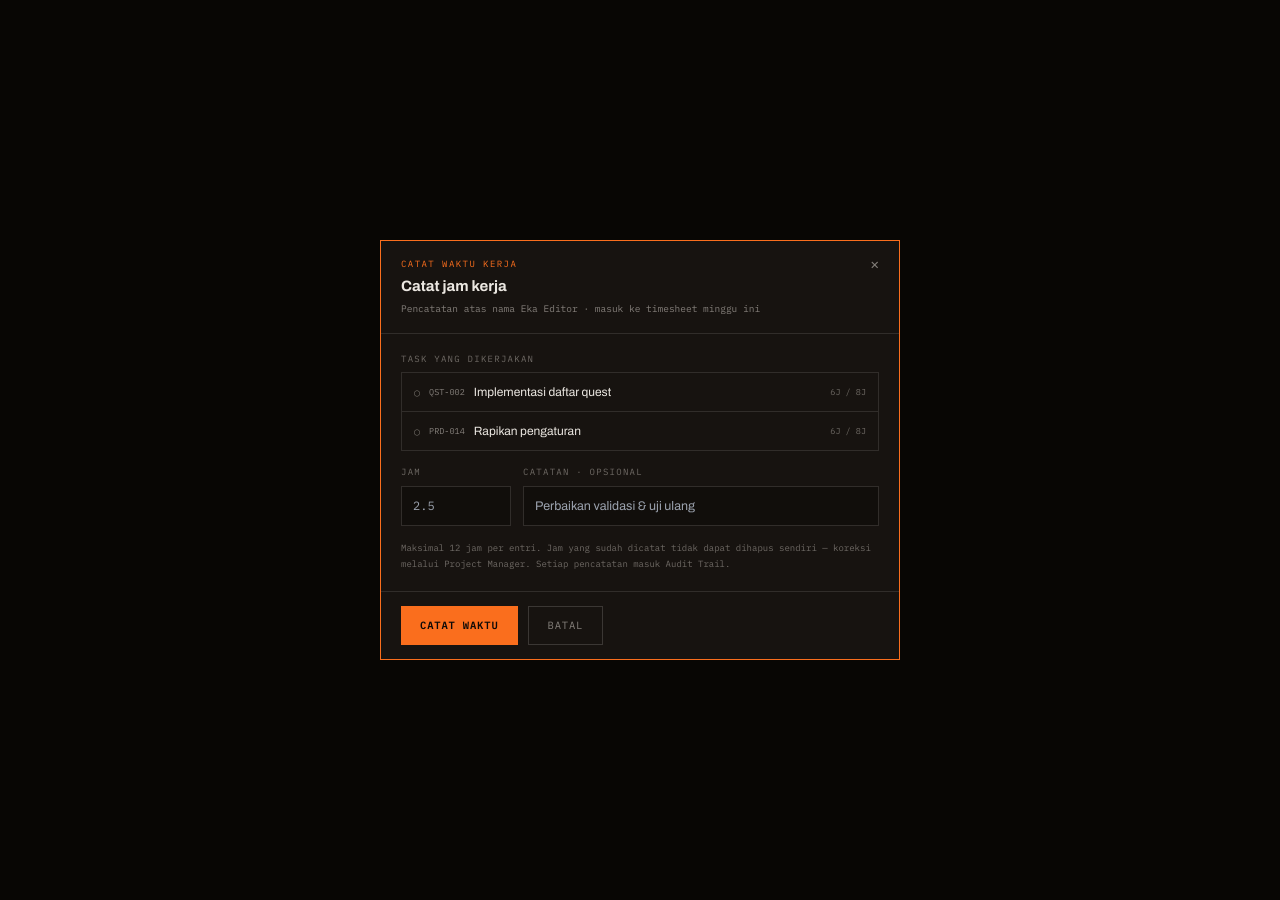
Scenario: LogTimeModal › jam kosong atau 0 ditolak
Click the option "○ QST-002 Implementasi daftar quest 6J / 8J".
click(447, 391)  # box left=414, top=385, right=866, bottom=399
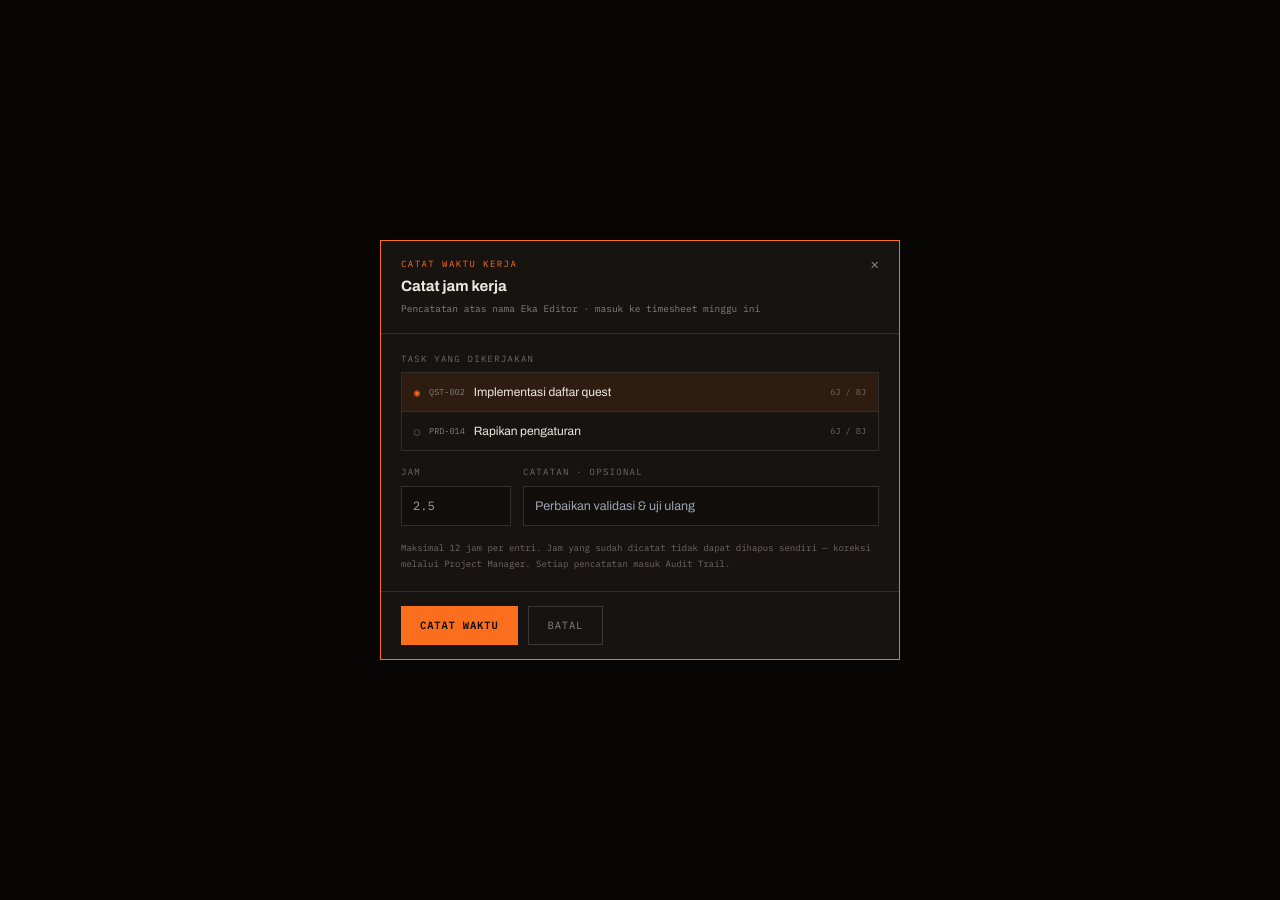
Click the button "CATAT WAKTU".
click(459, 626)  # box left=401, top=606, right=518, bottom=646
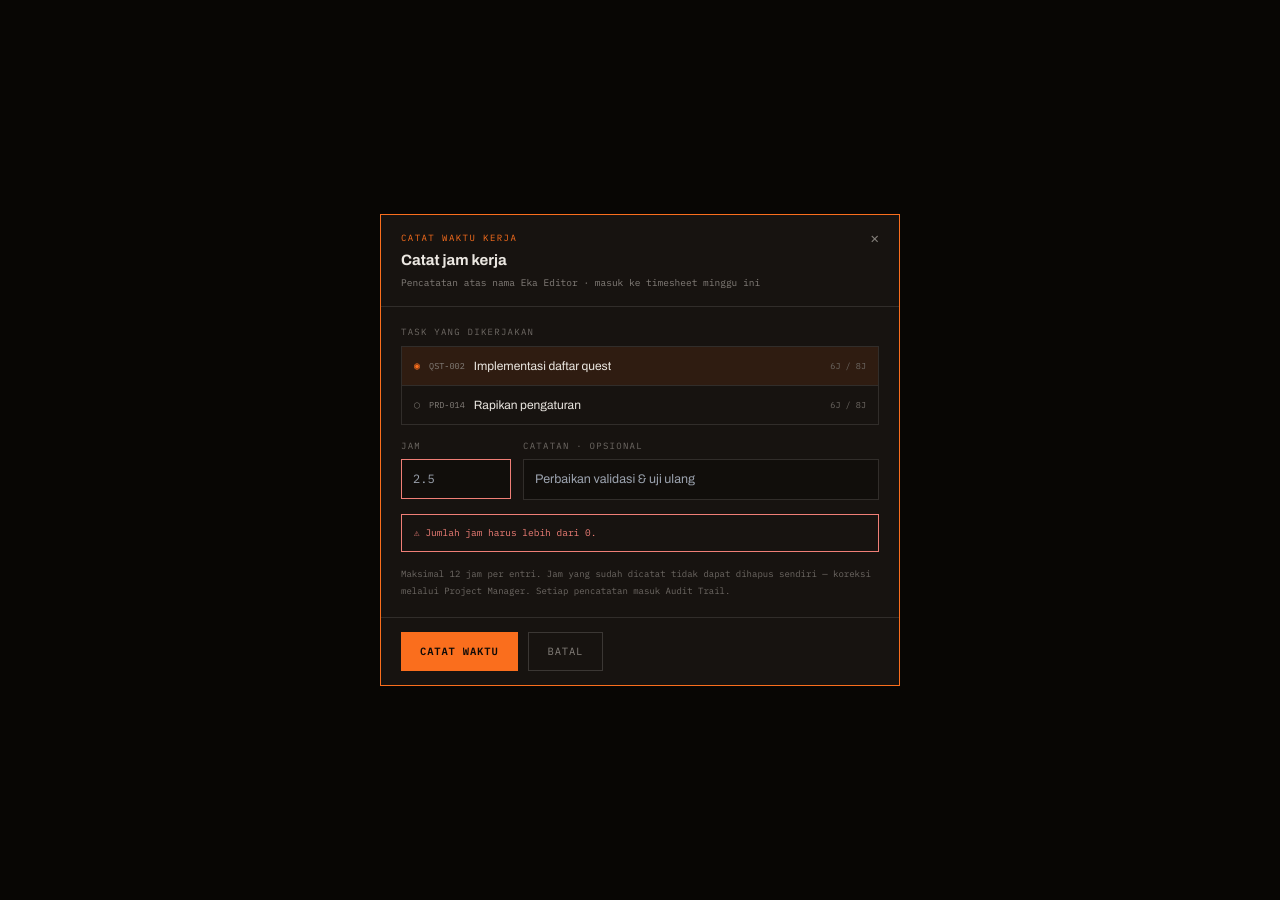
Expected: the text "⚠ Jumlah jam harus lebih dari 0." is shown, left=401, top=514, right=879, bottom=552
Type "0" into the field labelled "JAM".
click(456, 480); type("0")  # box left=401, top=460, right=511, bottom=500
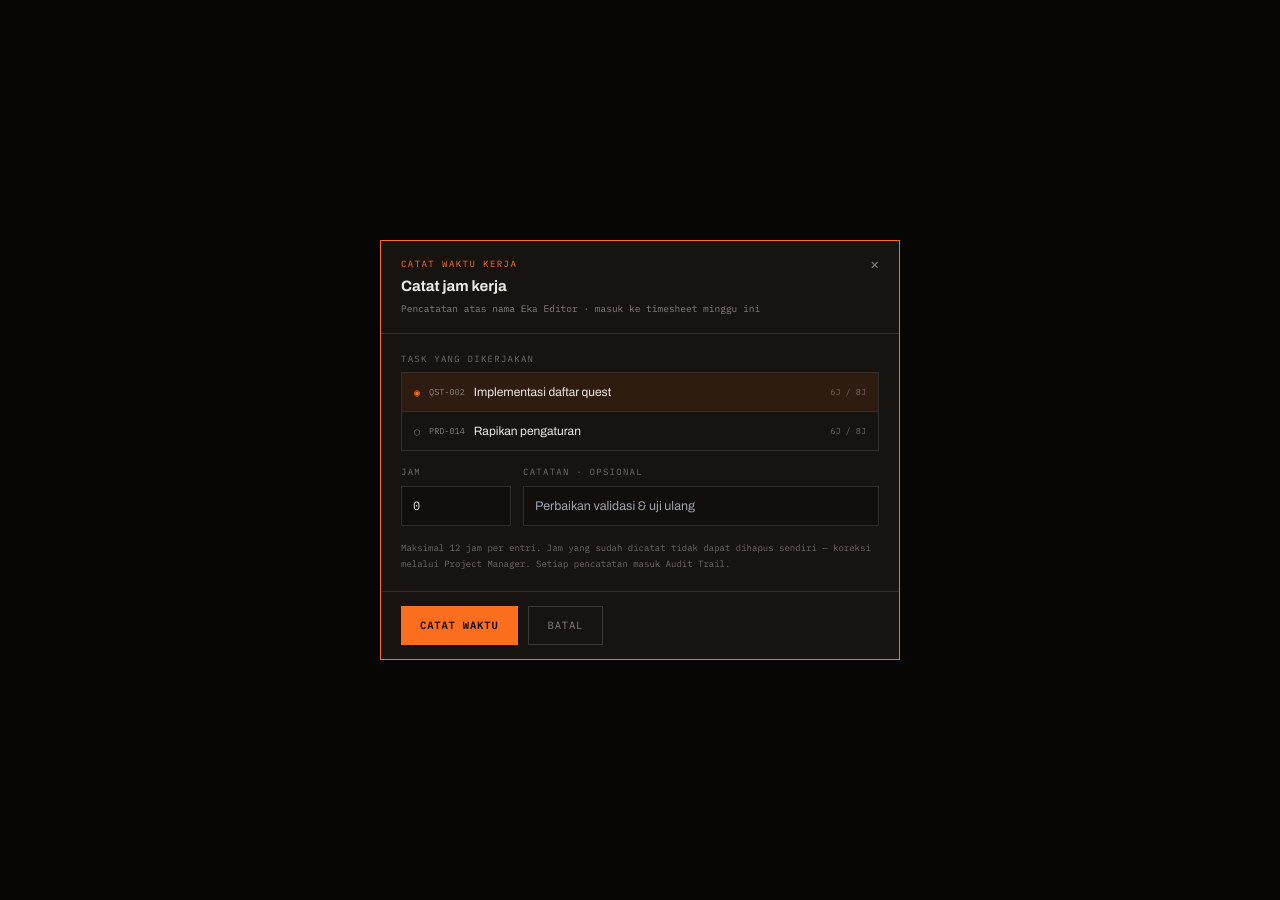
Click the button "CATAT WAKTU".
click(459, 626)  # box left=401, top=606, right=518, bottom=646
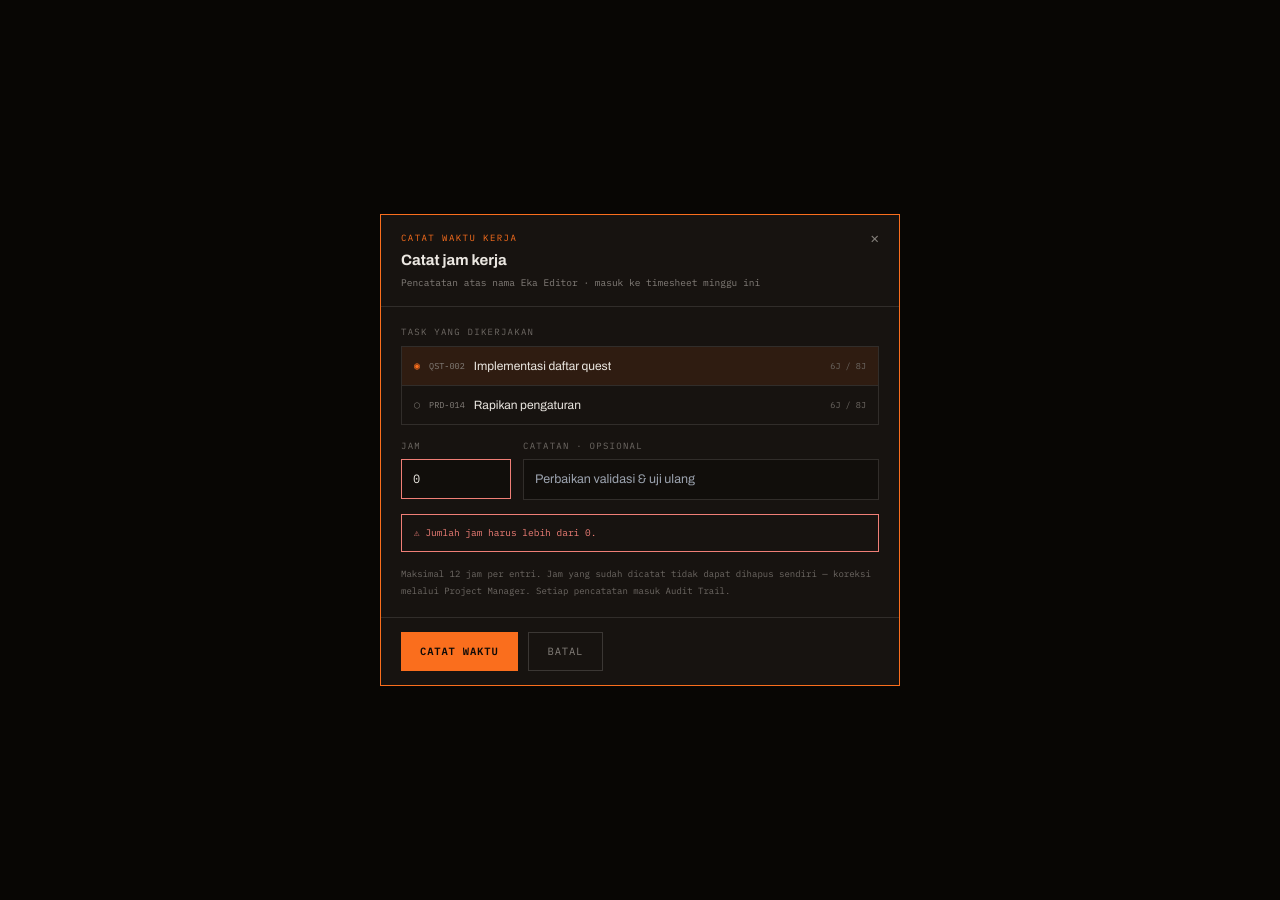
Expected: the text "⚠ Jumlah jam harus lebih dari 0." is shown, left=401, top=514, right=879, bottom=552
